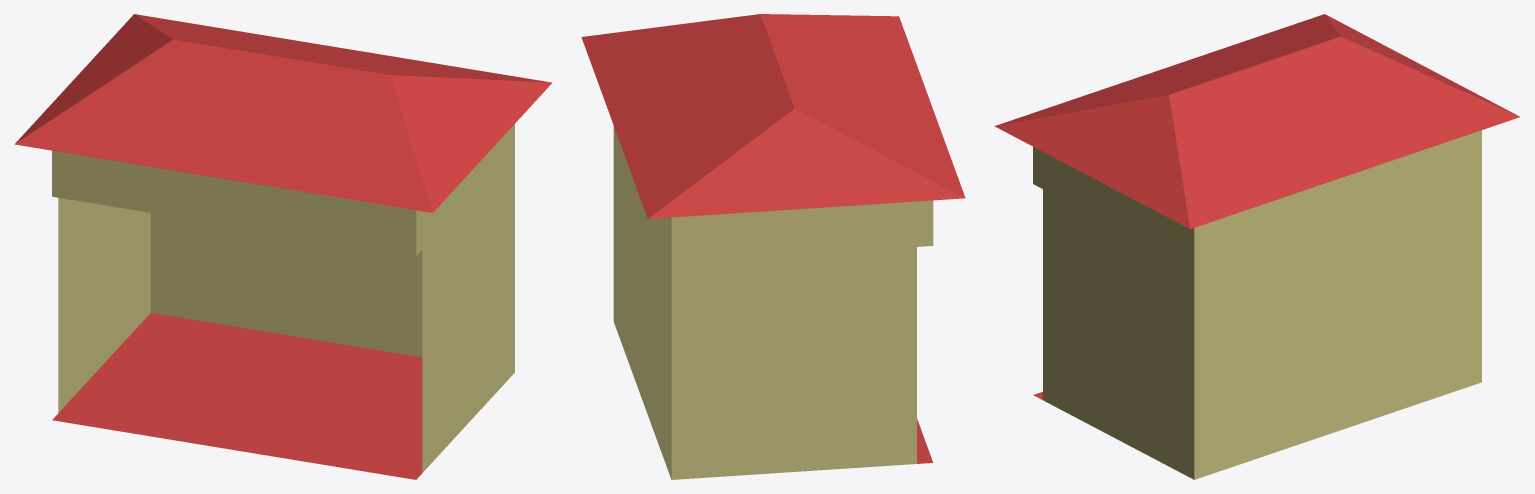
The picture shows the model from 3 angles, left to right: view 1: azimuth 30°, elevation 25°; view 2: azimuth 150°, elevation 25°; view 3: azimuth 270°, elevation 25°; orthographic projection. The views are drawn at different scales.
Parts seen in each view (by area): view 1: group_5, group_3, group_6, group_4; view 2: group_5, group_3, group_4; view 3: group_5, group_3, group_4.
Part boxes in pixels (x1=…): group_5: x1=52, y1=124, x2=514, y2=472; group_3: x1=52, y1=15, x2=551, y2=205; group_6: x1=52, y1=313, x2=422, y2=479; group_4: x1=14, y1=14, x2=552, y2=212; group_5: x1=613, y1=126, x2=933, y2=479; group_3: x1=582, y1=14, x2=962, y2=218; group_4: x1=581, y1=15, x2=965, y2=218; group_5: x1=1033, y1=130, x2=1481, y2=479; group_3: x1=1027, y1=20, x2=1517, y2=228; group_4: x1=994, y1=14, x2=1519, y2=228.
Bounding box in the file's own units: 18.51 × 19.12 × 12.9.
